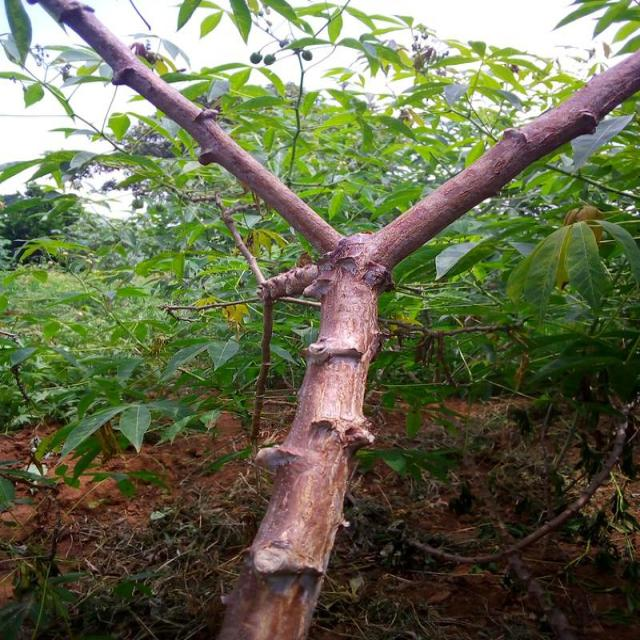cassava leaf: (506, 219, 608, 321)
